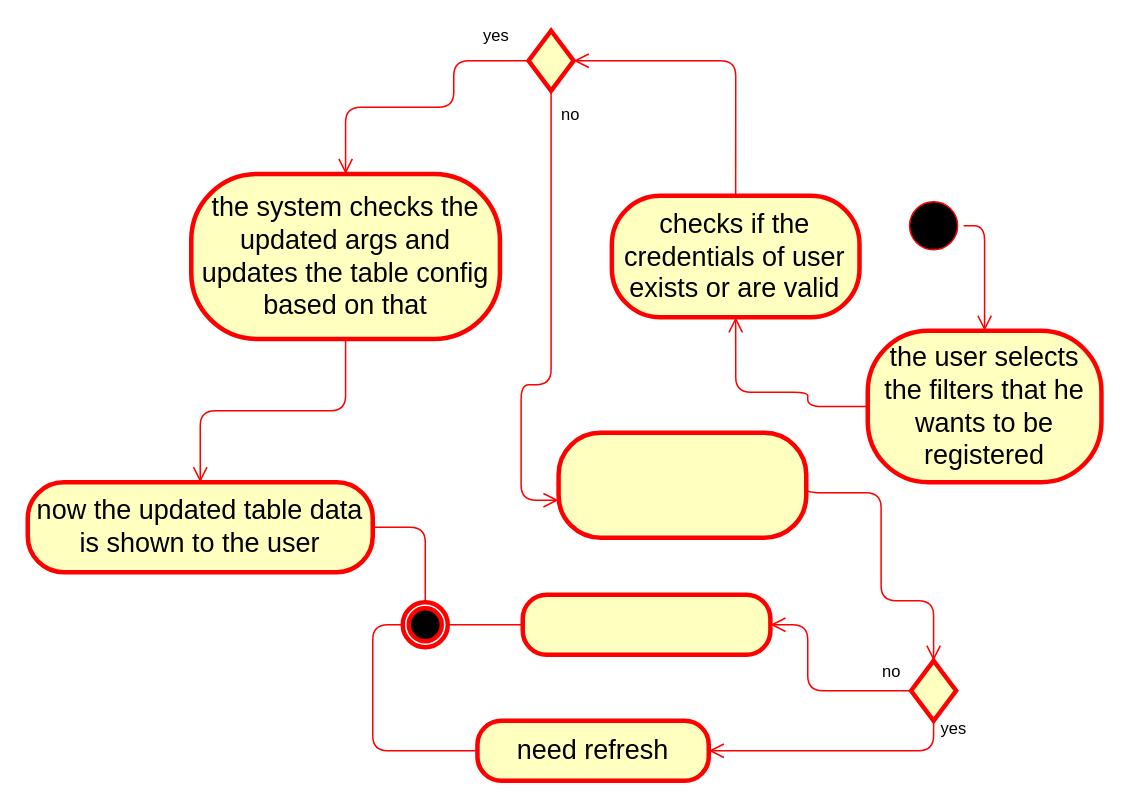
The diagram is 1130 pixels wide and 809 high, and some of its shapes have lost their labels. The centre of each missing label's shape, as x and y in pixels:
"check if the access token is expired" belongs at [682,484].
"error message" belongs at [646,624].
